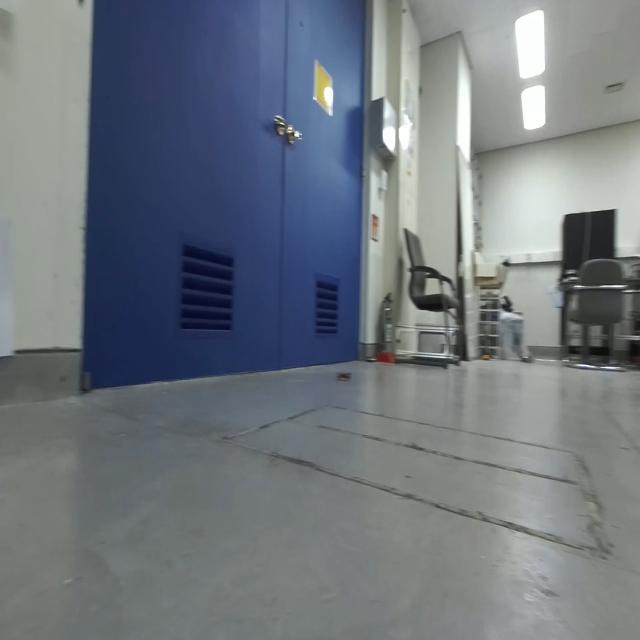crazyflie: (334, 366, 356, 387)
